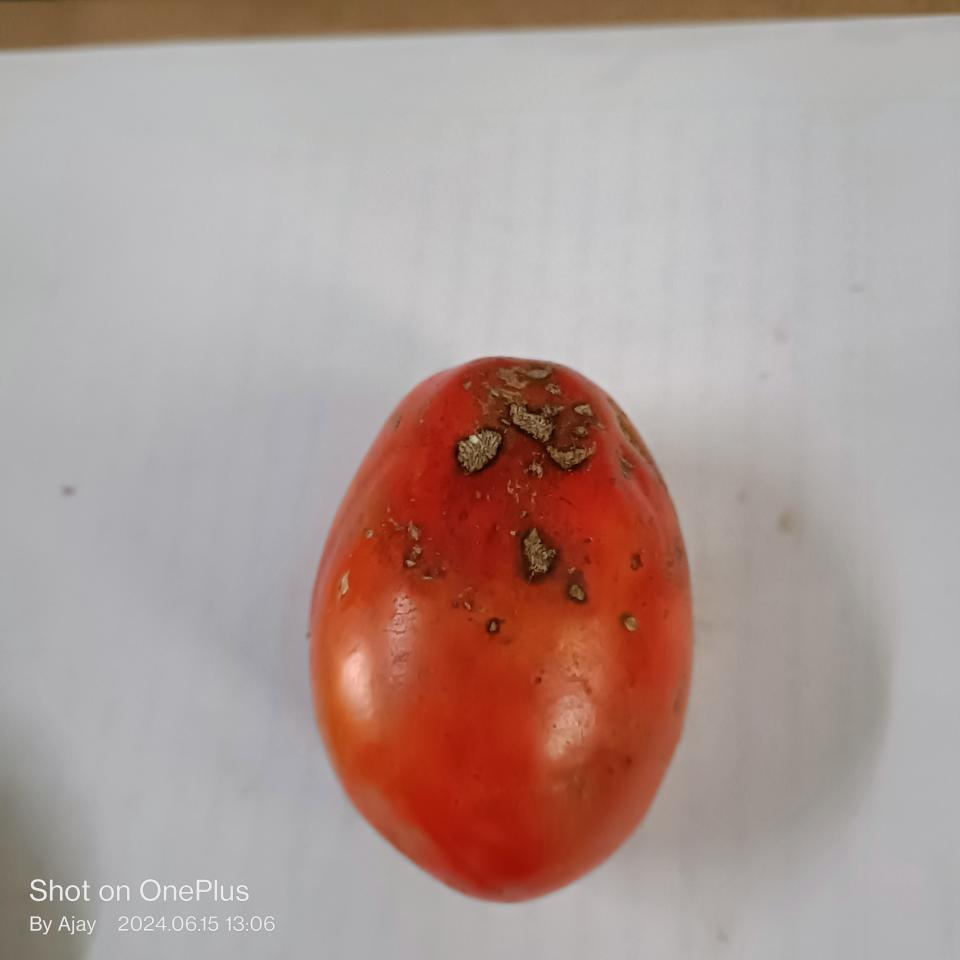Bacterial_Spot: (428, 362, 594, 620)
